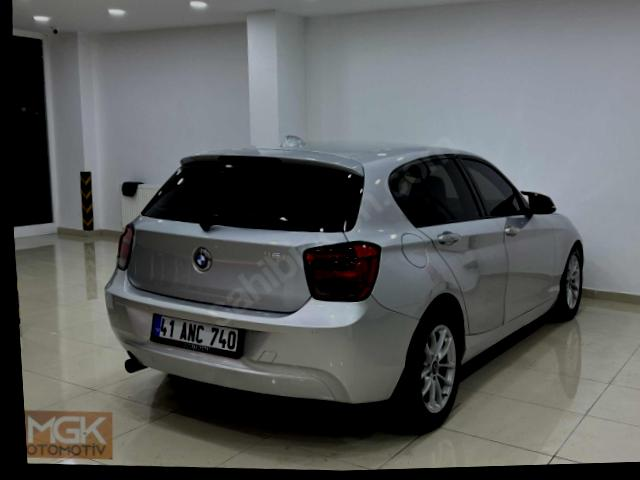plaka: (151, 314, 240, 357)
